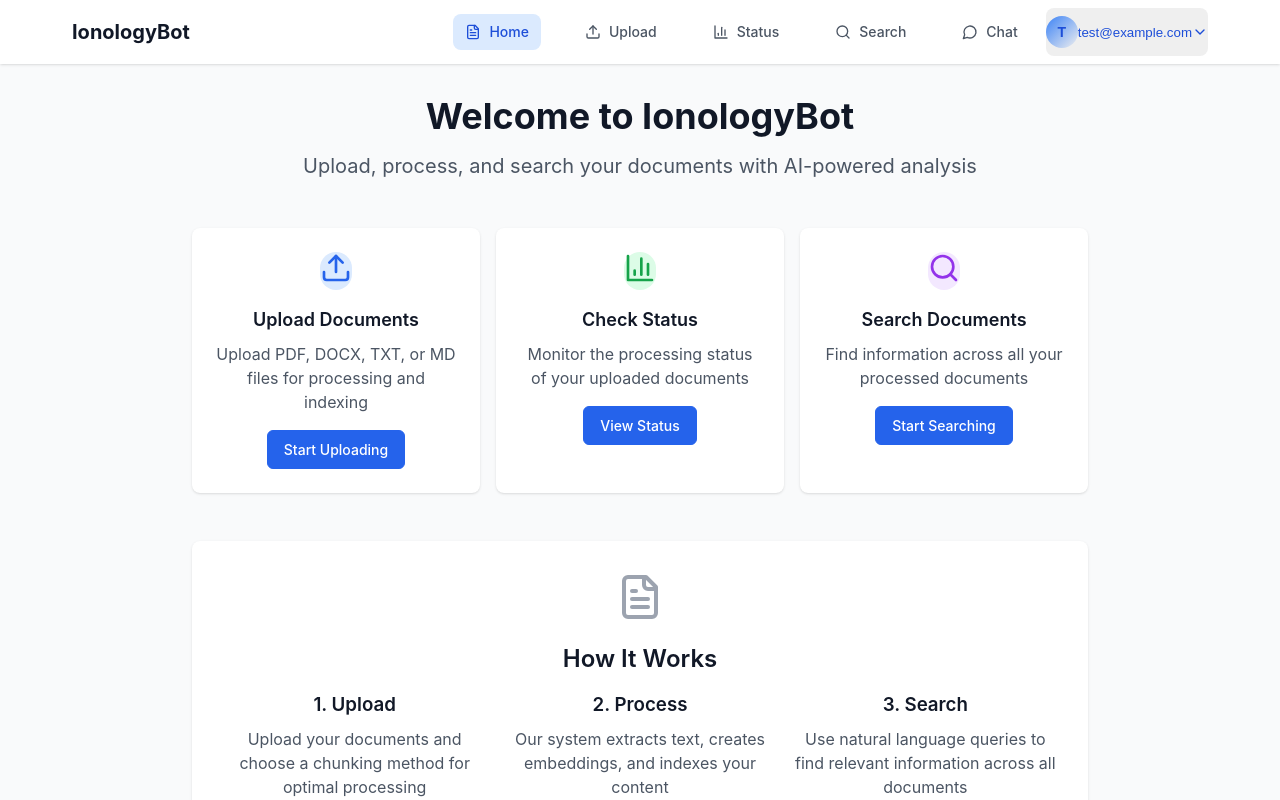
Scenario: Upload to Search Integration › maintains navigation state across pages
The image size is (1280, 800).
Expected: the heading "Welcome to IonologyBot" is shown, [426, 94, 854, 138]
Click the link "Upload" at {"x": 621, "y": 32}, box [585, 23, 657, 40]
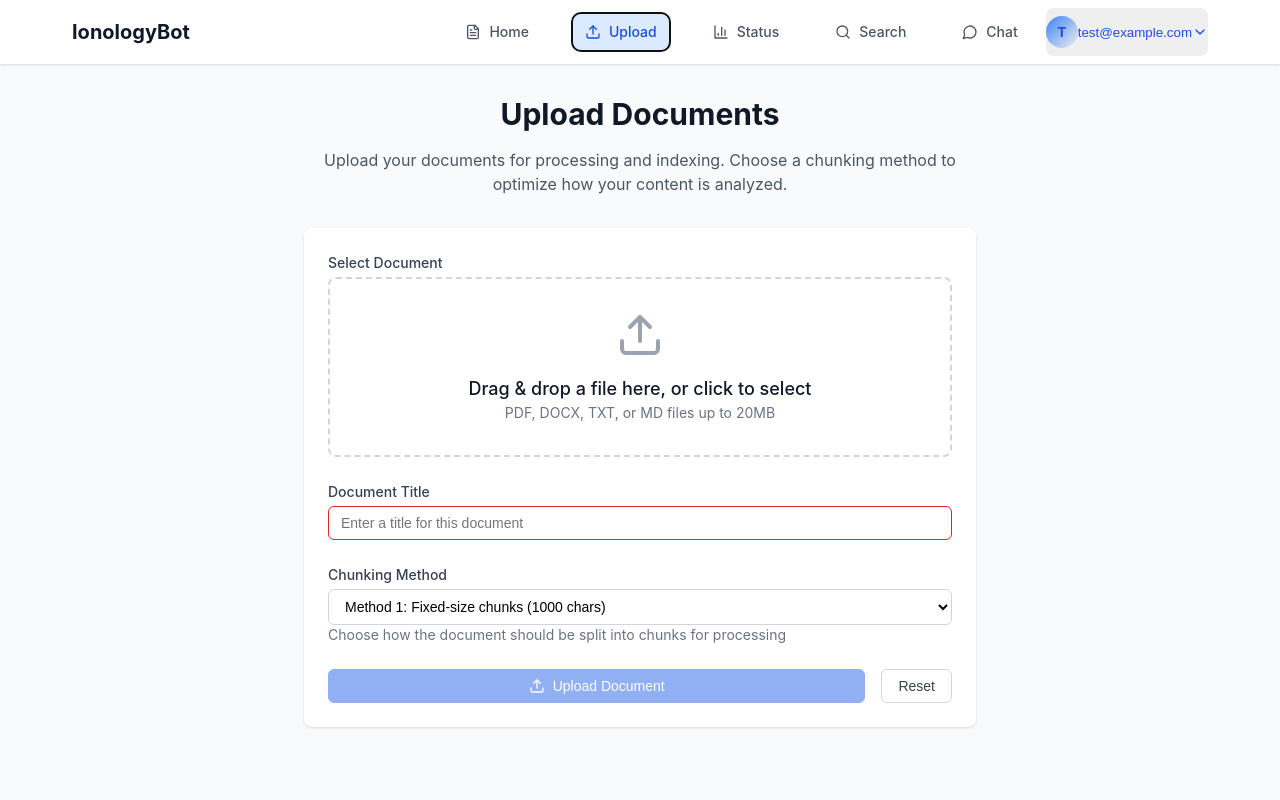
Expected: the heading "Upload Documents" is shown, [500, 96, 780, 132]
Click the link "Status" at {"x": 746, "y": 32}, box [713, 23, 779, 40]
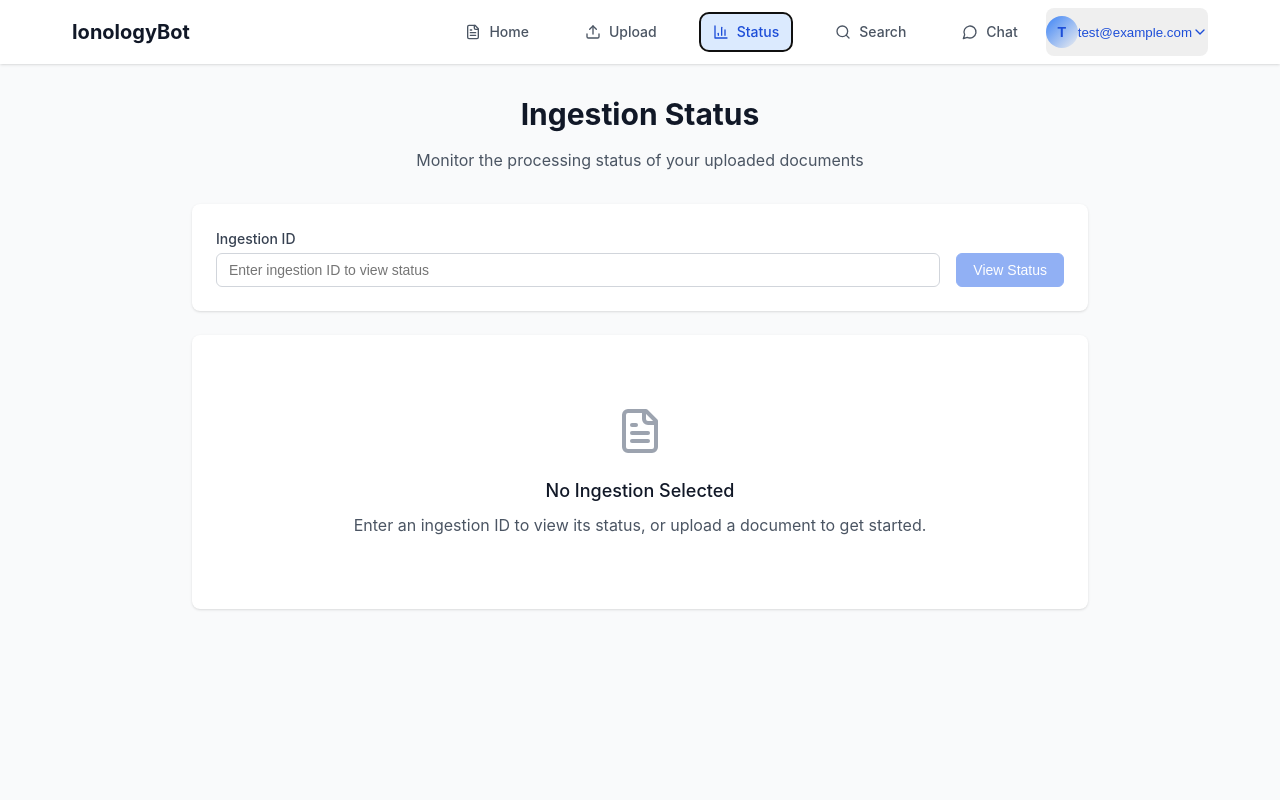
Expected: the heading "Ingestion Status" is shown, [521, 96, 759, 132]
Click the link "Search" at {"x": 871, "y": 32}, box [835, 23, 906, 40]
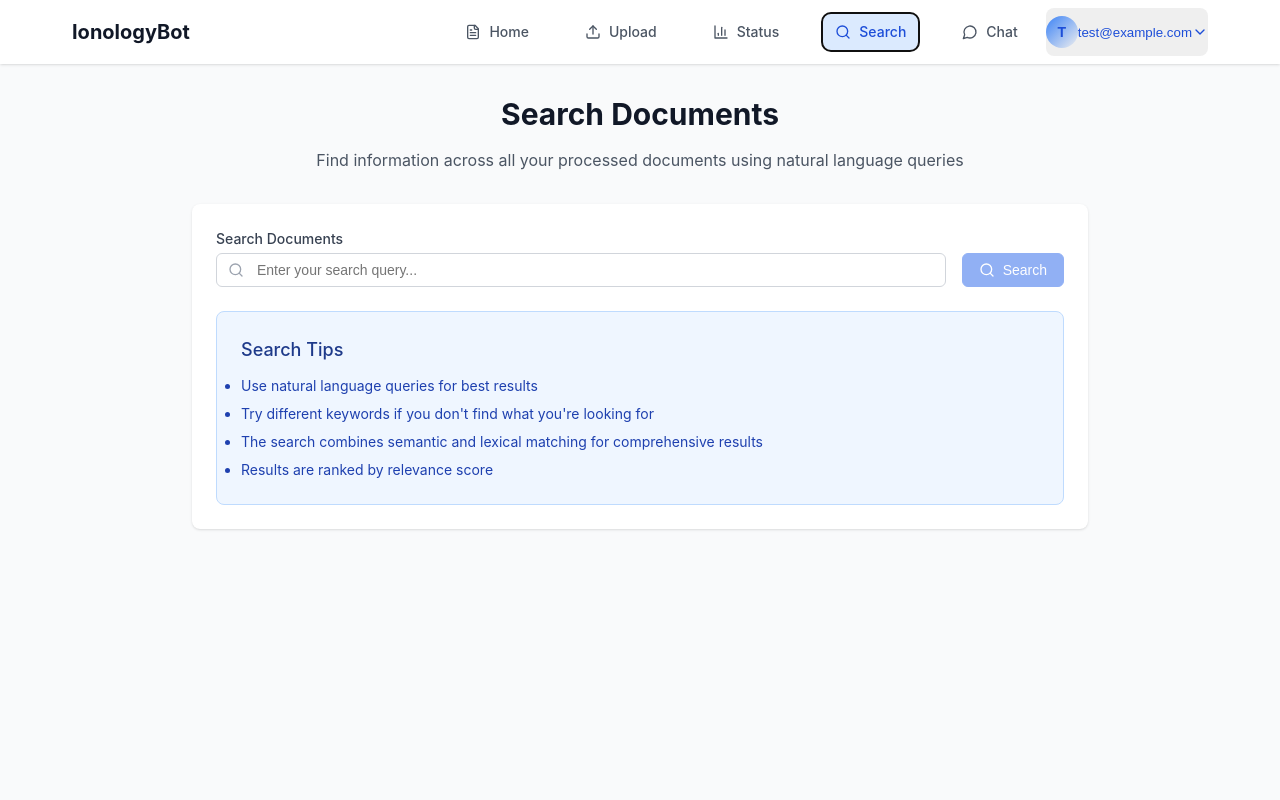
Expected: the heading "Search Documents" is shown, [501, 96, 779, 132]
Click the link "Home" at {"x": 497, "y": 32}, box [465, 23, 529, 40]
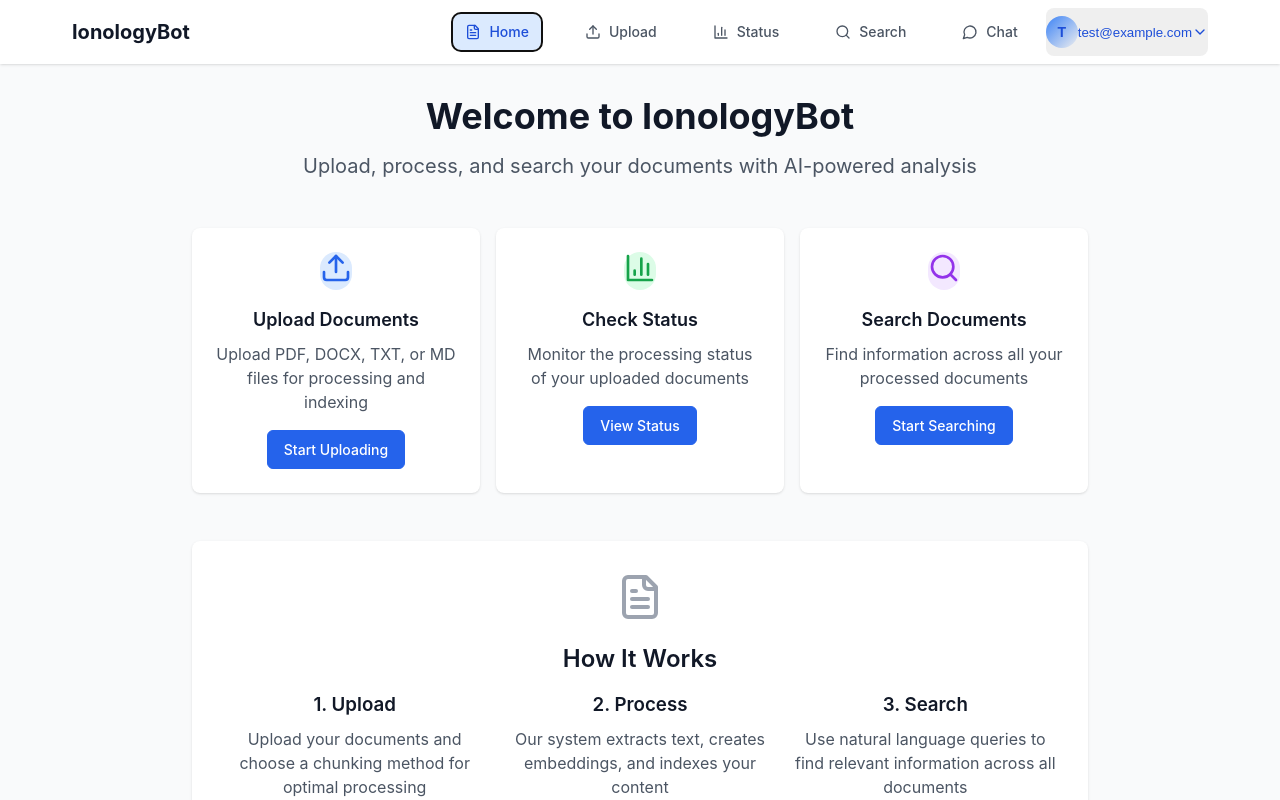
Expected: the heading "Welcome to IonologyBot" is shown, [426, 94, 854, 138]
